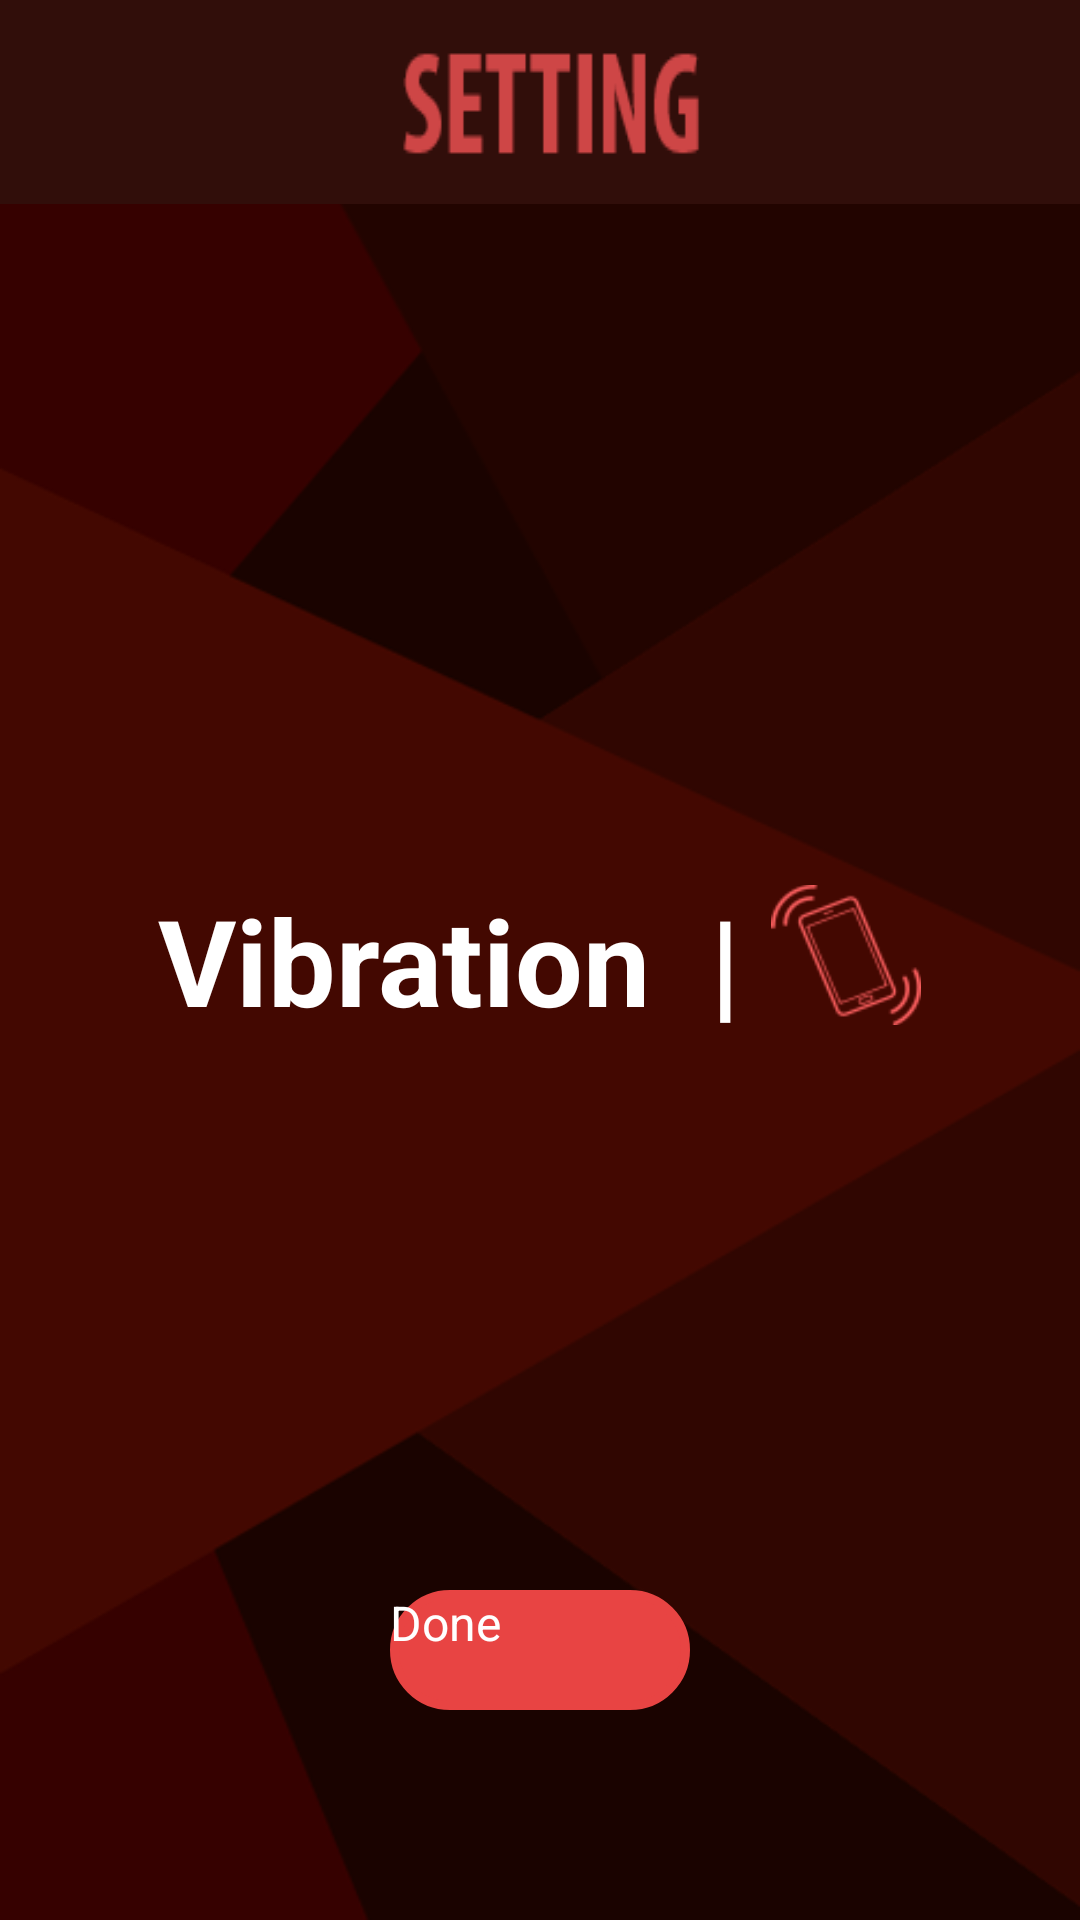

Locate icon controls on the screen. Image size 1080*1920, boxes as (x1, y1, x2, y2).
softshake: (771, 885, 921, 1025)
